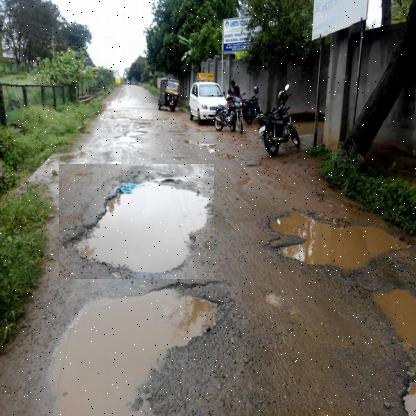pothole_water: (60, 165, 216, 281), (256, 192, 404, 290)
